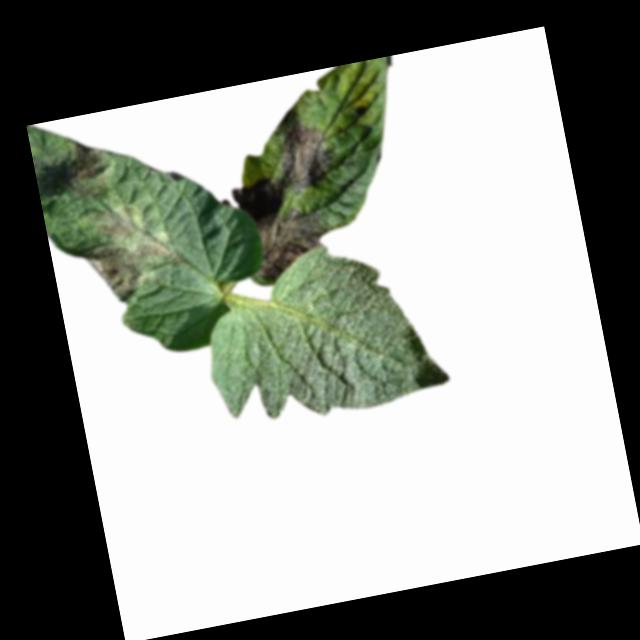Late_blight: (220, 116, 345, 221), (83, 236, 178, 307), (250, 204, 328, 279), (63, 132, 113, 192), (89, 202, 147, 251)
